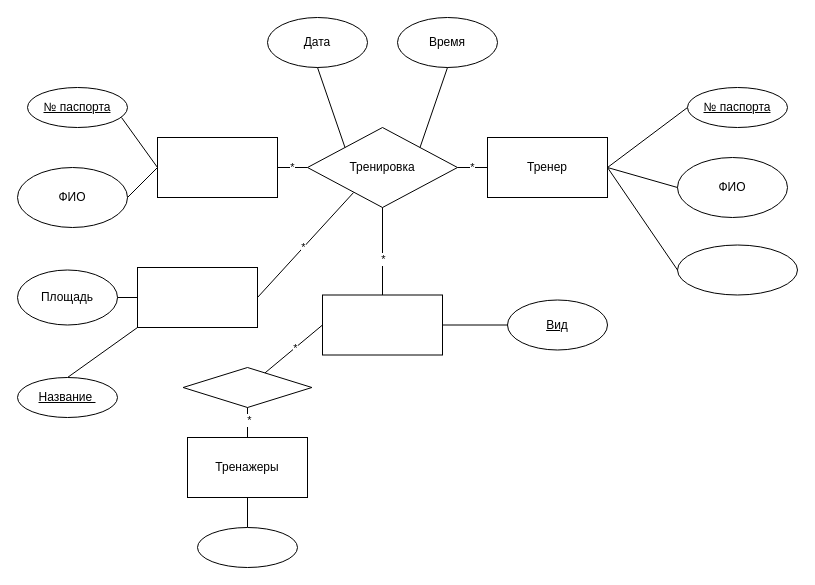
The diagram is 815 pixels wide and 585 high, and some of its shapes have lost their labels. Each missing label, with the box of its shape:
Вид занятия: (322, 294, 442, 355)
Вид тренажера: (196, 526, 298, 568)
Зал: (136, 266, 258, 328)
используются: (182, 366, 312, 408)
Категория: (676, 244, 798, 295)
Клиент: (156, 136, 278, 198)
